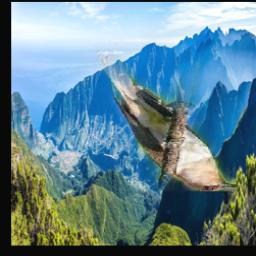Cuckoo: (90, 37, 237, 192)
